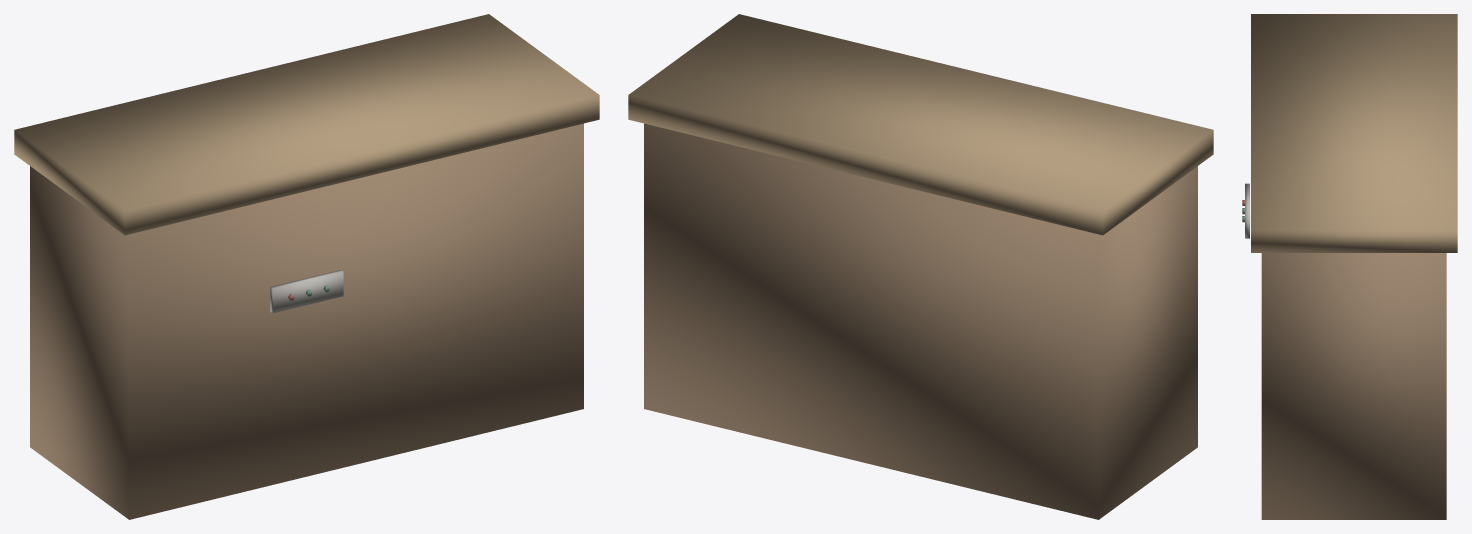
Rendered from clinic_reception_counter__tall.glb.
The picture shows the model from 3 angles, left to right: view 1: azimuth 30°, elevation 25°; view 2: azimuth 150°, elevation 25°; view 3: azimuth 270°, elevation 25°; orthographic projection. The views are drawn at different scales.
Visible parts, largest first — view 1: world; view 2: world; view 3: world.
Boxes of the visible parts, left/top/right/bottom form: world: left=14, top=14, right=599, bottom=519; world: left=628, top=14, right=1213, bottom=519; world: left=1242, top=14, right=1457, bottom=519.
Size of the model in its own units: 1.88 by 1.19 by 0.791.
